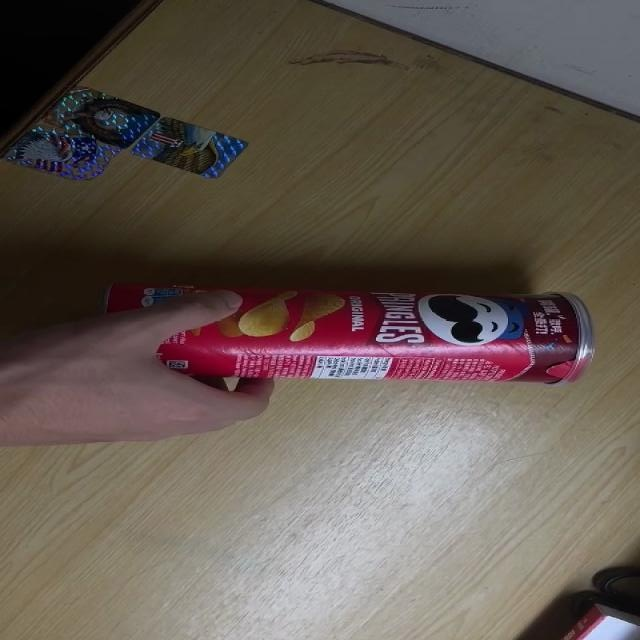Pringles: (95, 282, 592, 385)
